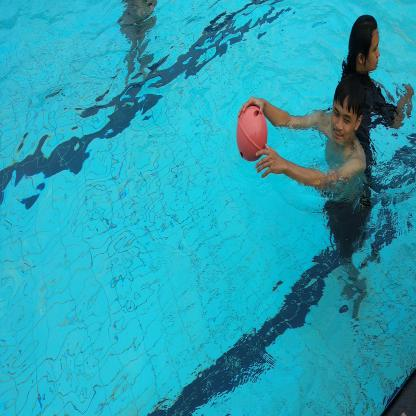red_buoy: (234, 99, 270, 170)
